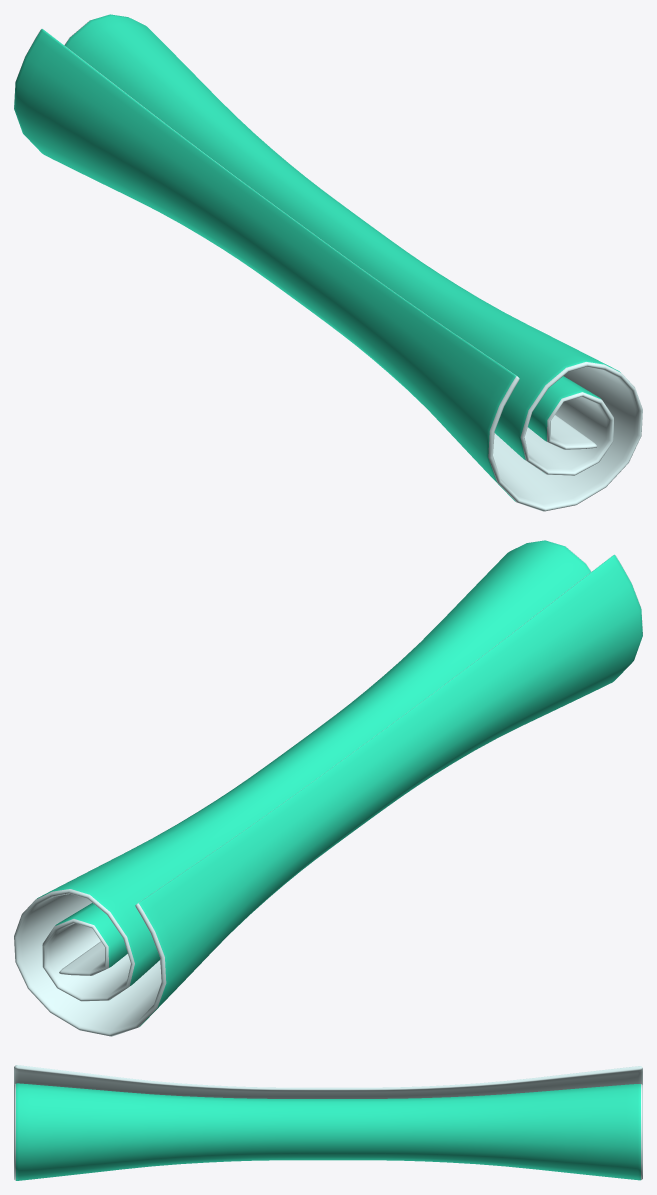
The model's file is PosterRolled.fbx.
3 renders of one model, top to bottom at view 1: azimuth 30°, elevation 25°; view 2: azimuth 150°, elevation 25°; view 3: azimuth 270°, elevation 25°, orthographic. The views are drawn at different scales.
Visible parts, largest first — view 1: PosterRolled; view 2: PosterRolled; view 3: PosterRolled.
Part boxes in pixels (x1,y1,x2,y2): PosterRolled: [14, 14, 642, 511]; PosterRolled: [14, 540, 642, 1036]; PosterRolled: [14, 1065, 642, 1180].
Bounding box in the file's own units: 9003 × 7999 × 48321.
